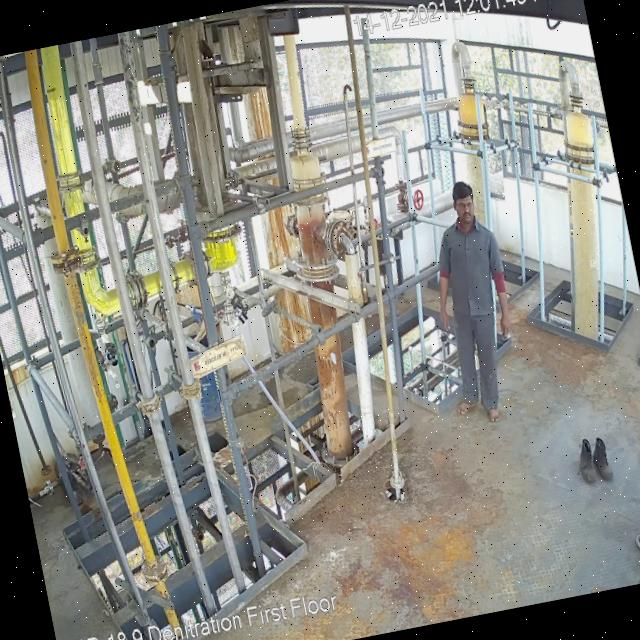boots: (573, 435, 604, 487), (590, 436, 616, 482)
no-boots: (453, 398, 480, 417), (483, 405, 503, 428)
